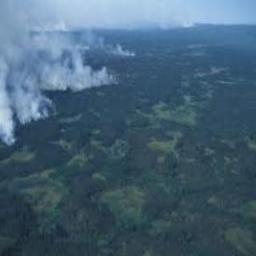Low smoke: (0, 0, 209, 150)
